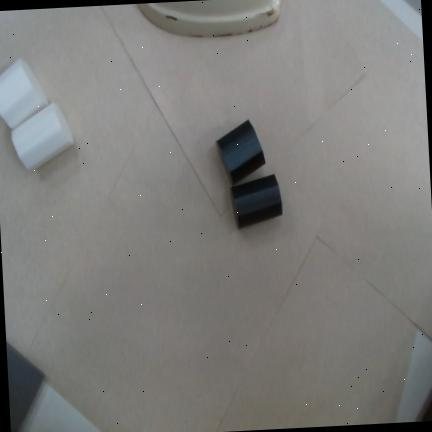Prisma_hexagonal: (11, 102, 74, 170), (0, 58, 49, 130), (215, 119, 266, 187), (230, 174, 283, 230)
